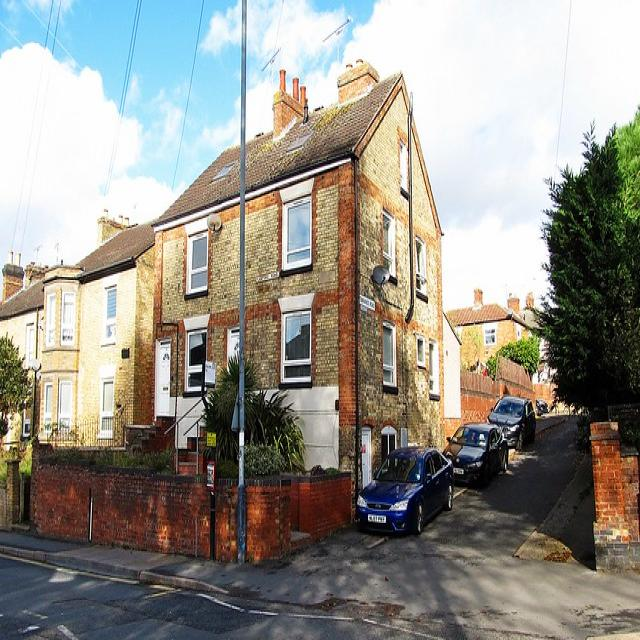building: (155, 60, 446, 555)
